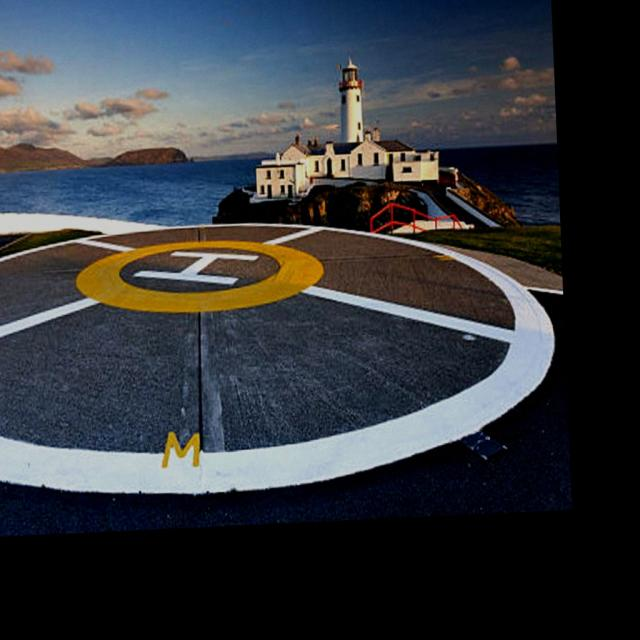helipad: (68, 238, 326, 316)
